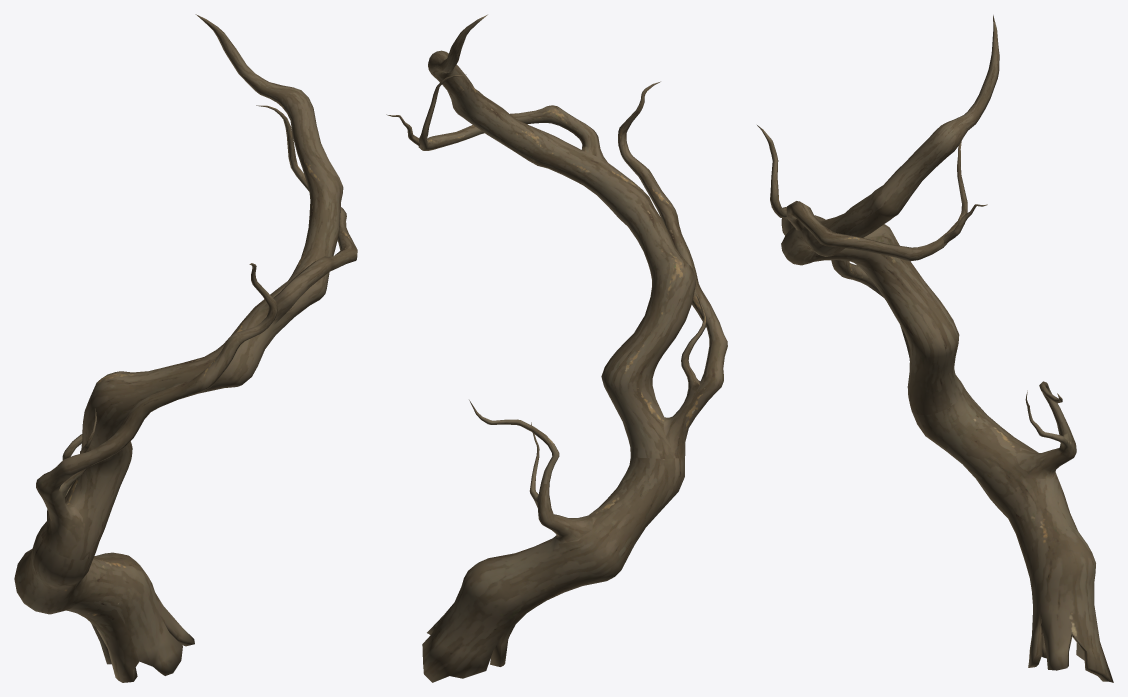
Rendered from Area_Xm_Stone_JQR_Full_Tm_M_01.fbx.
3 renders of one model, left to right at view 1: azimuth 30°, elevation 25°; view 2: azimuth 150°, elevation 25°; view 3: azimuth 270°, elevation 25°, orthographic. The views are drawn at different scales.
Parts seen in each view (by area): view 1: Area_Xm_Stone_JQR_Full_Tm_M_01_Lod0; view 2: Area_Xm_Stone_JQR_Full_Tm_M_01_Lod0; view 3: Area_Xm_Stone_JQR_Full_Tm_M_01_Lod0.
Boxes of the visible parts, x1,y1,x2,y2 form: Area_Xm_Stone_JQR_Full_Tm_M_01_Lod0: (14, 14, 357, 682); Area_Xm_Stone_JQR_Full_Tm_M_01_Lod0: (386, 14, 727, 682); Area_Xm_Stone_JQR_Full_Tm_M_01_Lod0: (757, 15, 1113, 682).
Bounding box in the file's own units: 49.23 × 101 × 48.76.
Materials: 1 (1 with a texture image).
